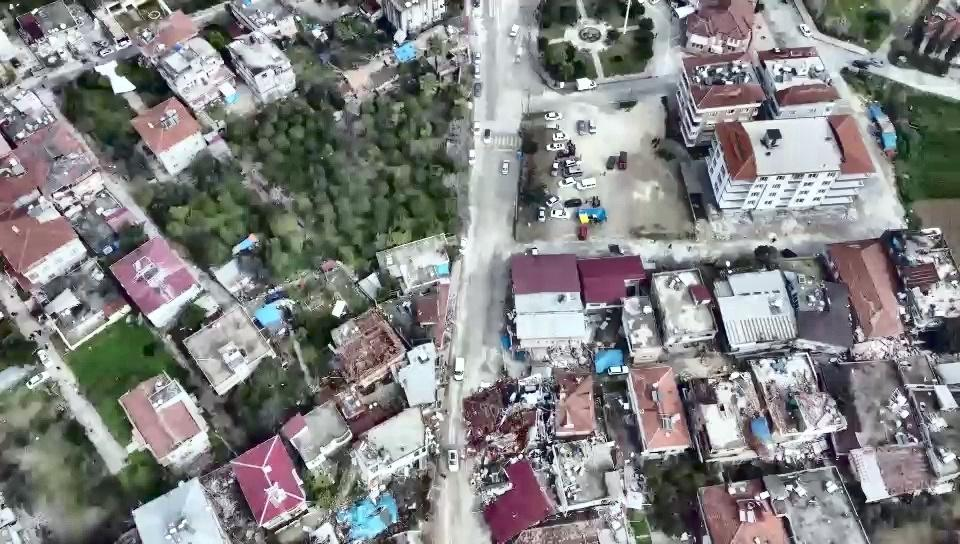kapali: (427, 364, 503, 543)
